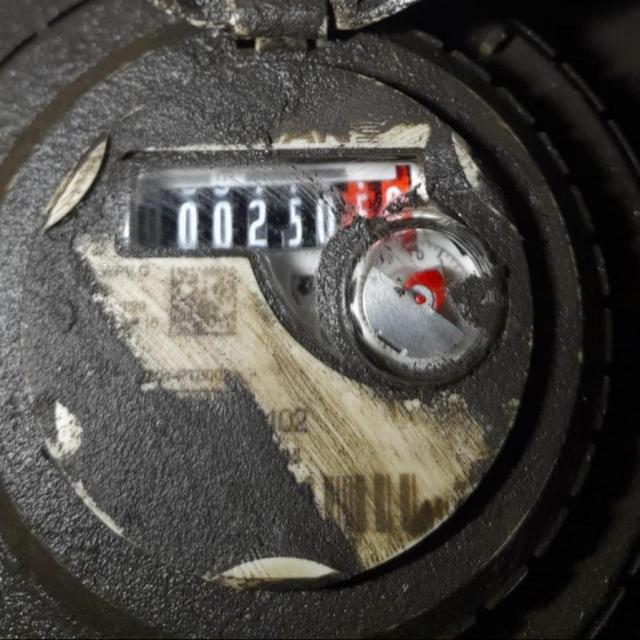gaz_meter: (5, 23, 553, 599)
indication: (157, 174, 419, 251)
